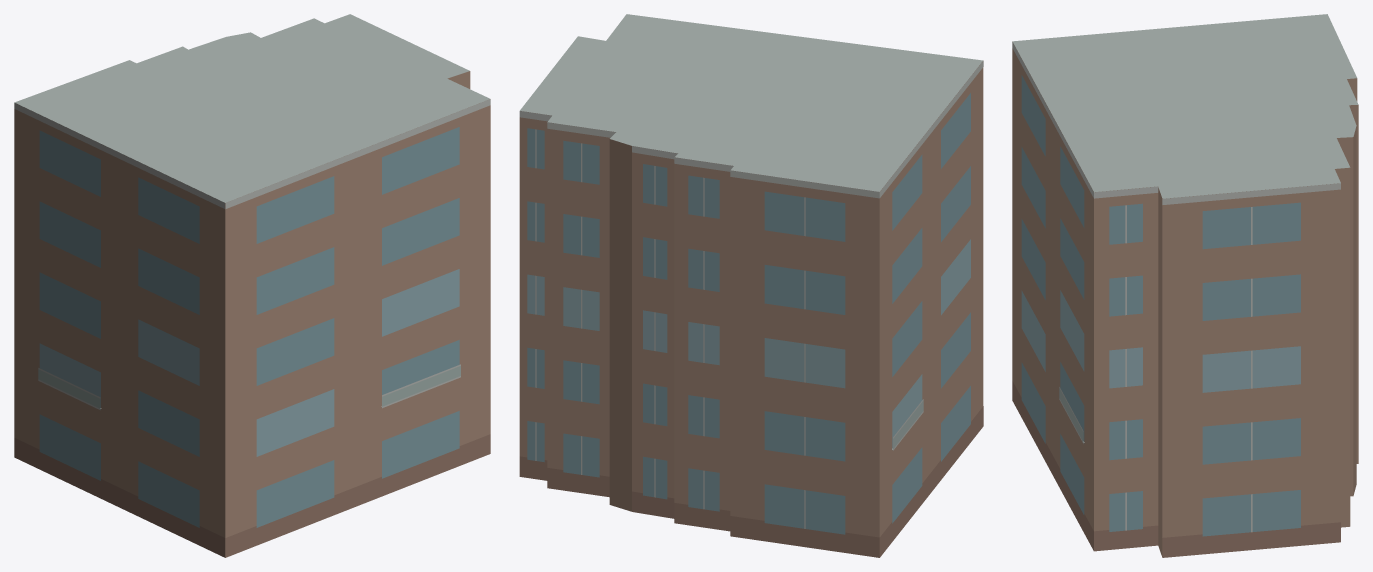
File: survey-upis-33043541.glb
The picture shows the model from 3 angles, left to right: view 1: azimuth 30°, elevation 25°; view 2: azimuth 150°, elevation 25°; view 3: azimuth 270°, elevation 25°; orthographic projection. The views are drawn at different scales.
Visible parts, largest first — view 1: survey-upis-33043541.tmp; view 2: survey-upis-33043541.tmp; view 3: survey-upis-33043541.tmp.
Part boxes in pixels (x1,y1,x2,y2): survey-upis-33043541.tmp: (14,14,490,557); survey-upis-33043541.tmp: (519,14,983,557); survey-upis-33043541.tmp: (1012,14,1358,557).
Bounding box in the file's own units: 15.13 × 13.7 × 11.98.
